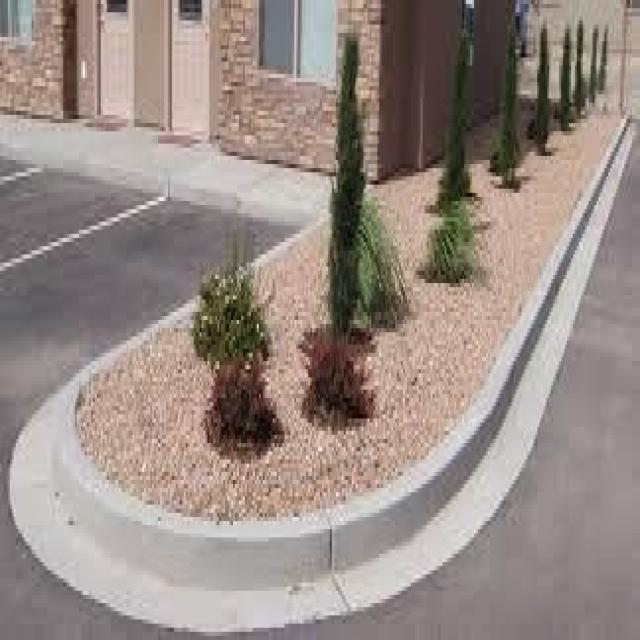curb: (5, 382, 351, 634), (330, 374, 527, 614), (497, 251, 577, 459)
